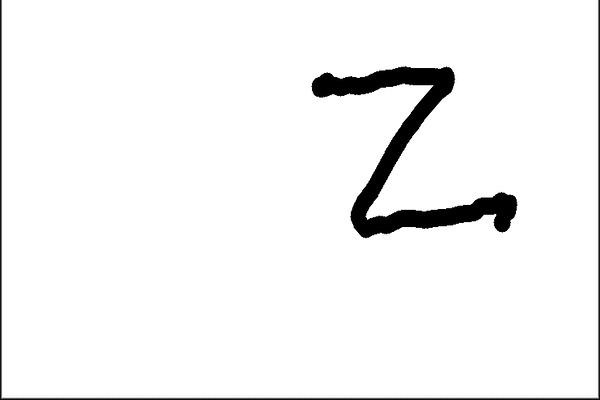Z: (302, 58, 521, 248)
